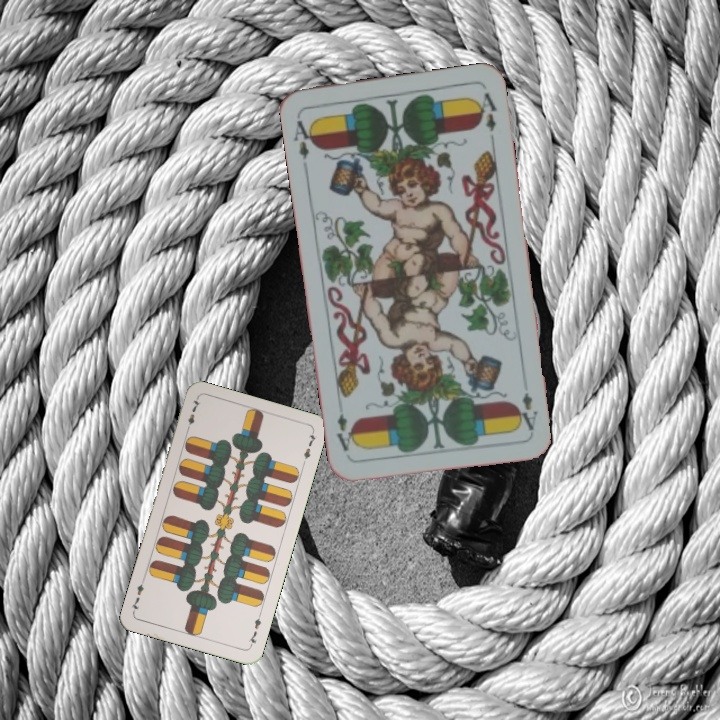E7: (183, 395, 203, 435), (245, 610, 264, 649)
EA: (290, 113, 318, 164), (514, 388, 540, 434)
